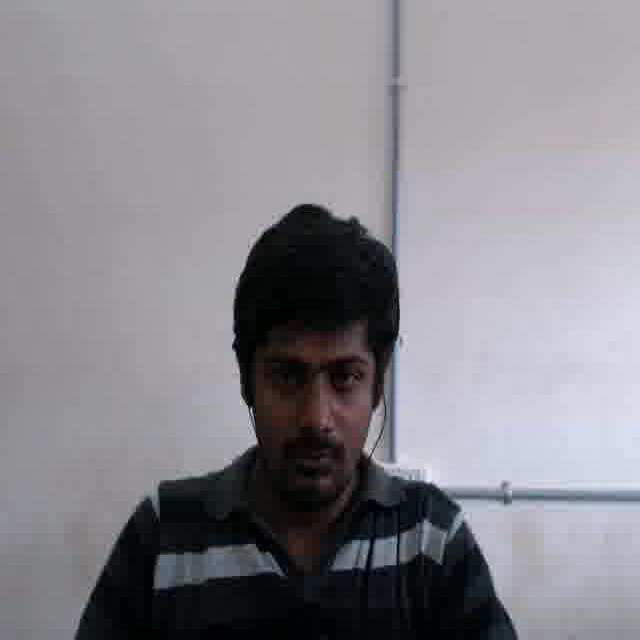Engaged: (255, 309, 372, 502)
